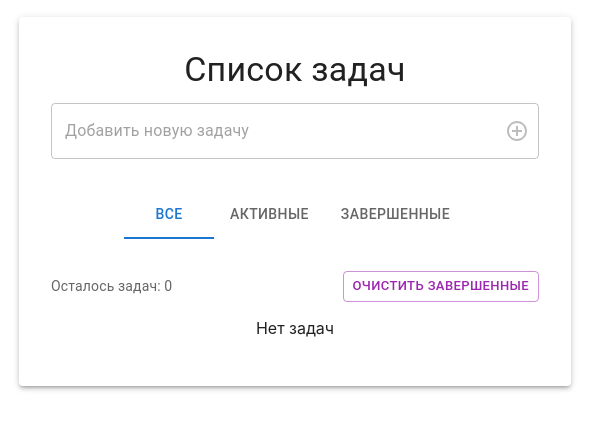
Test: ToDo › adds new task
The width and height of the screenshot is (591, 430).
Type "Новая задача" into the field with placeholder "Добавить новую задачу" at (270, 131), box [51,103,489,159]
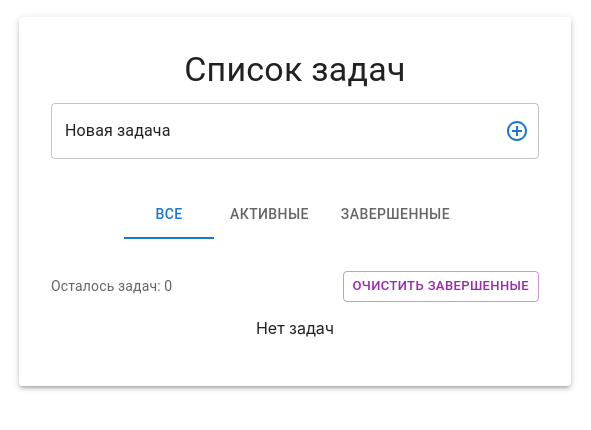
Submit the form from the field with placeholder "Добавить новую задачу", box [51,103,489,159]
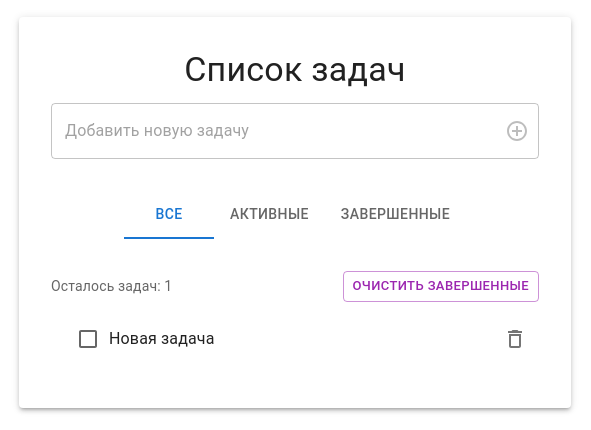
expect the text "Новая задача" is shown: met, box [109,329,214,348]
